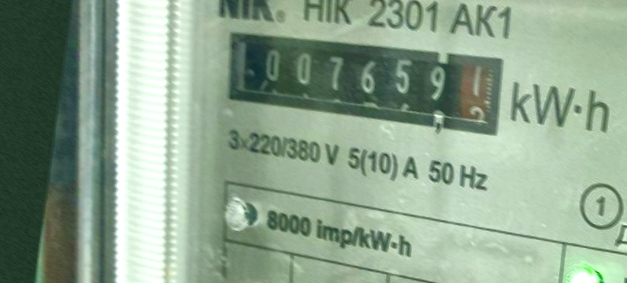0: (291, 48, 317, 90), (261, 46, 286, 86)
1: (465, 62, 488, 101)
5: (389, 56, 416, 99)
6: (355, 56, 382, 99)
7: (322, 52, 349, 94)
9: (425, 63, 451, 105)
screen: (212, 17, 514, 147)
